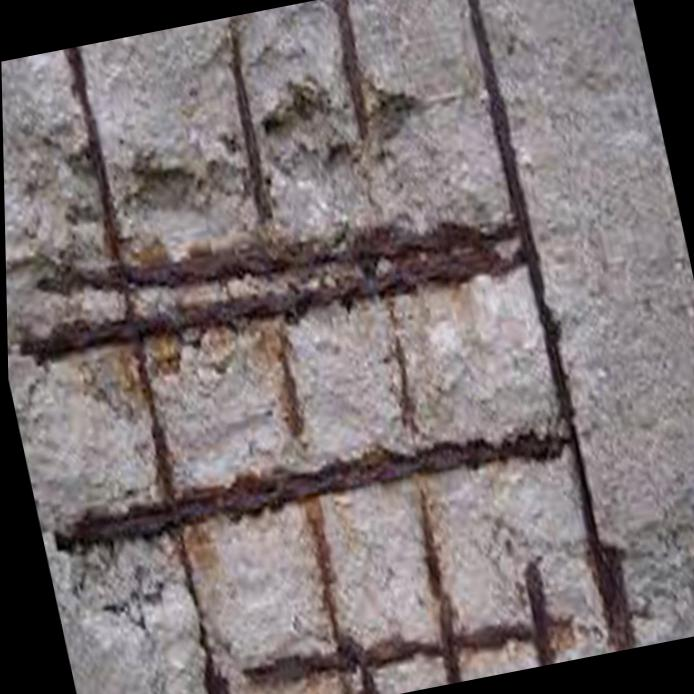damage: (3, 0, 694, 694)
